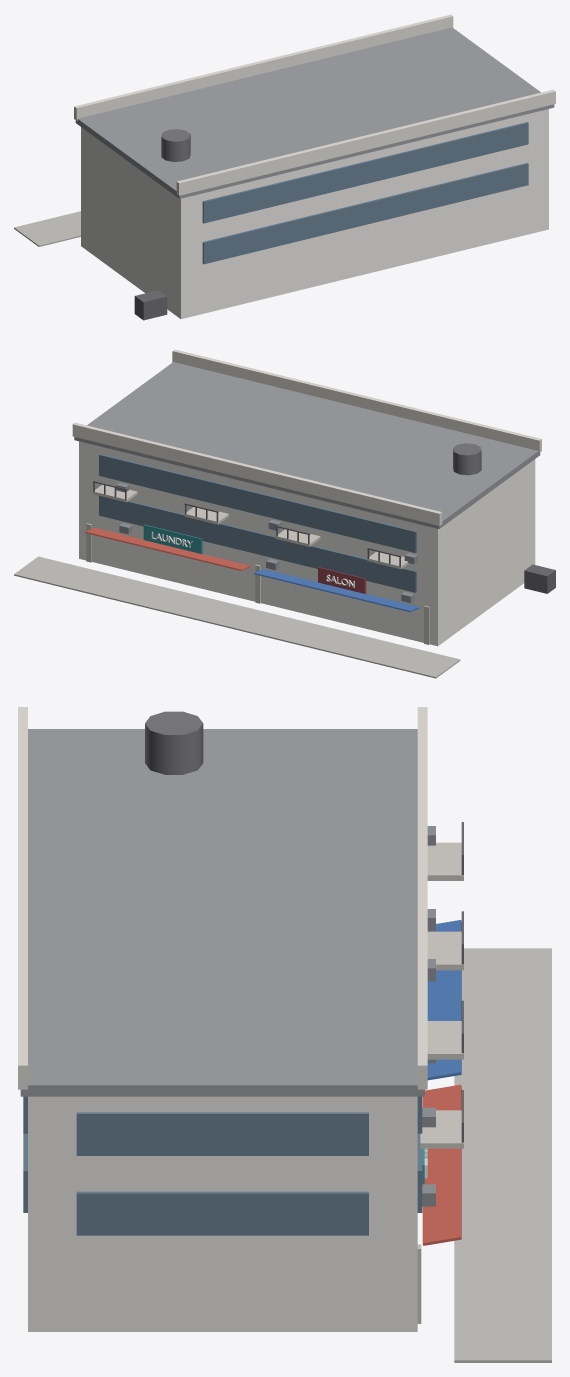
The model's file is wuse2_block_3.glb.
3 renders of one model, top to bottom at view 1: azimuth 30°, elevation 25°; view 2: azimuth 150°, elevation 25°; view 3: azimuth 270°, elevation 25°, orthographic. The views are drawn at different scales.
Parts seen in each view (by area): view 1: BLD_wuse2_block_3; view 2: BLD_wuse2_block_3; view 3: BLD_wuse2_block_3.
Part boxes in pixels (x1,y1,x2,y2): BLD_wuse2_block_3: [14, 14, 555, 320]; BLD_wuse2_block_3: [14, 349, 555, 678]; BLD_wuse2_block_3: [18, 707, 551, 1362].
Size of the model in its own units: 40 by 13.1 by 21.9.
